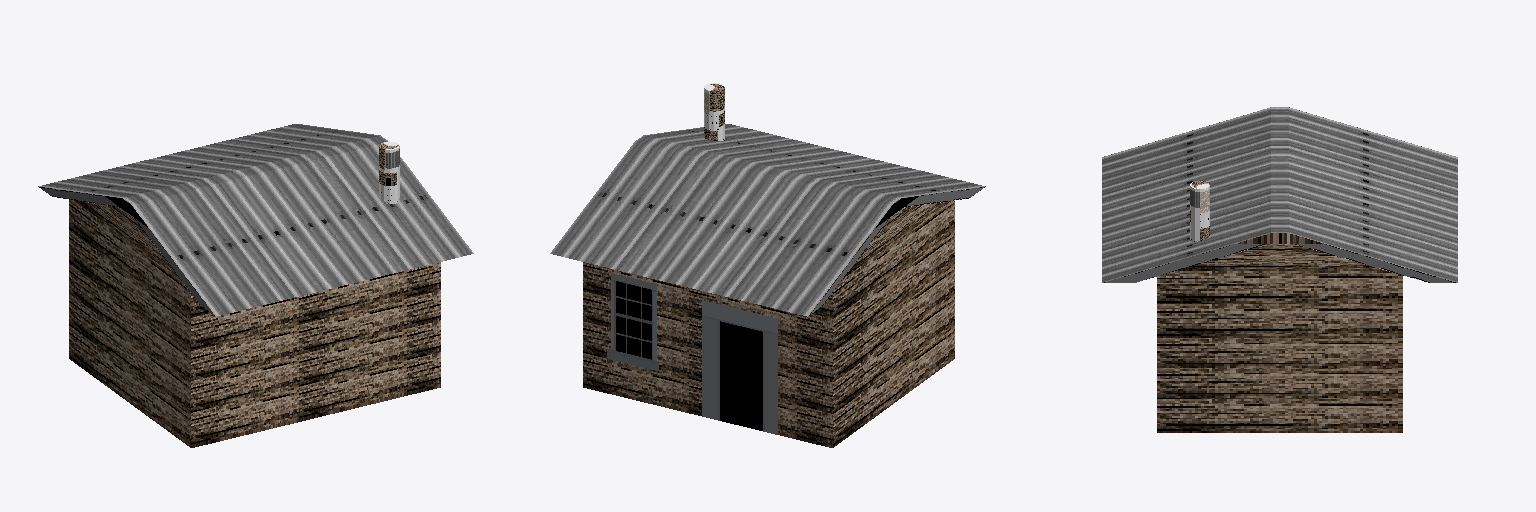
3 views of the same model, side by side, from view 1: azimuth 30°, elevation 25°; view 2: azimuth 150°, elevation 25°; view 3: azimuth 270°, elevation 25° (orthographic).
Visible parts, largest first — view 1: mesh01, cylinder01; view 2: mesh01, cylinder01; view 3: mesh01, cylinder01.
Boxes of the visible parts, box(x1,y1,x2,y2) form: mesh01: box(38, 124, 473, 447); cylinder01: box(379, 141, 399, 204); mesh01: box(550, 124, 985, 447); cylinder01: box(704, 83, 724, 140); mesh01: box(1102, 107, 1457, 432); cylinder01: box(1190, 181, 1209, 241).
Bounding box in the file's own units: 138 × 119 × 164.
1 materials, 1 textured.